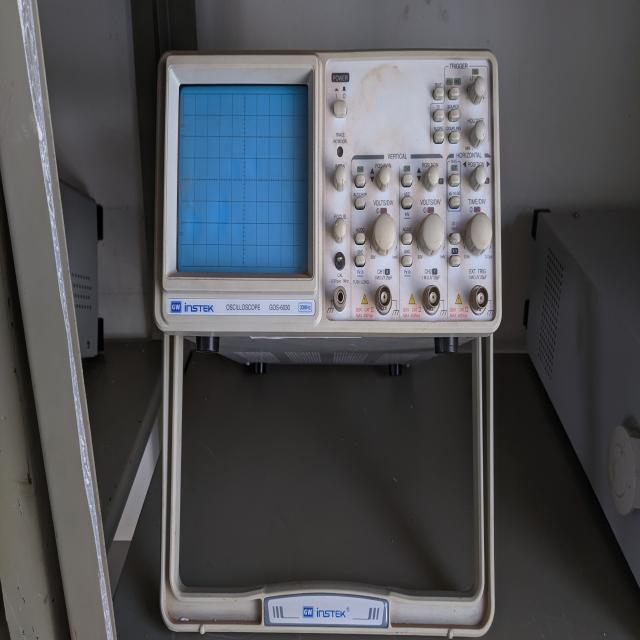Cathode Ray Oscilloscope: (137, 49, 538, 640)
